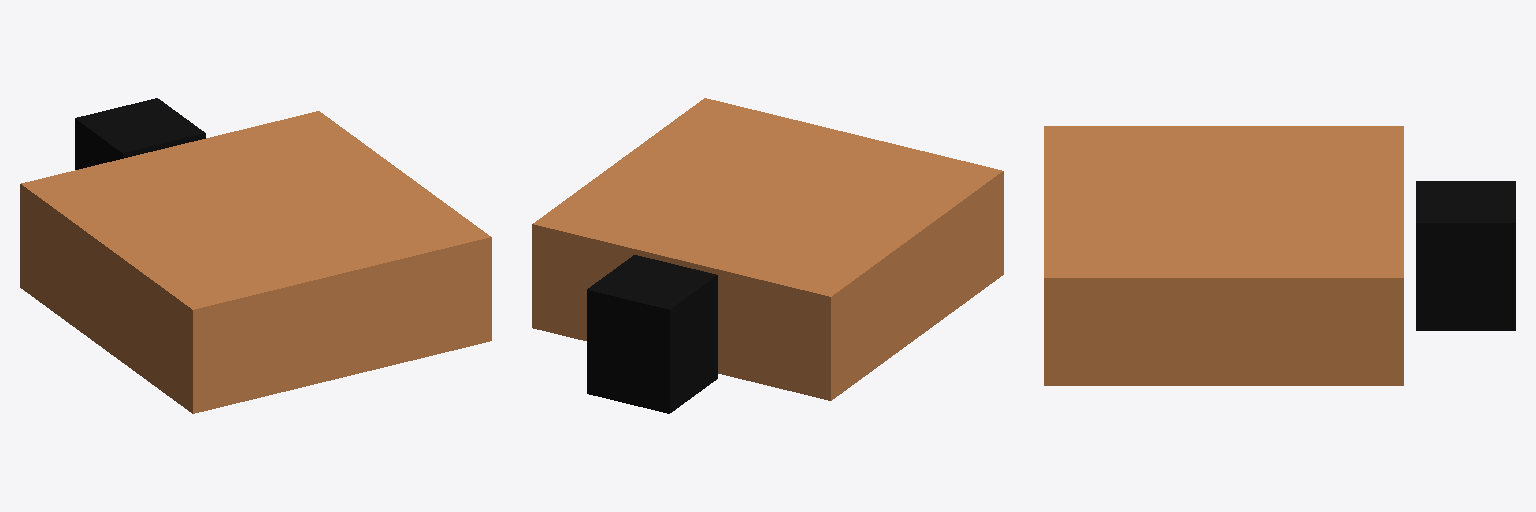
URDF robot description (box):
<?xml version="1.0"?>
<robot name="box">
  <link name="box">
    <visual>
      <material name="wood">
        <color rgba="0.82 0.56 0.35 1.0"/>
      </material>
      <origin xyz="0 -0.09 0"/>
      <geometry>
        <box size="0.9 0.9 0.3"/>
      </geometry>
    </visual>
    <collision>
      <origin xyz="0 -0.09 0"/>
      <geometry>
        <box size="0.9 0.9 0.3"/>
      </geometry>
    </collision>
    <visual>
      <material name="plate">
        <color rgba="0.1 0.1 0.1 1.0"/>
      </material>
      <origin xyz="0 0.515 0"/>
      <geometry>
        <box size="0.25 0.25 0.3"/>
      </geometry>
    </visual>
    <inertial>
      <mass value="500"/>
      <friction value="1.0"/>
      <inertia ixx="1000.0" ixy="0.0" ixz="0.0" iyy="1000.0" iyz="0.0" izz="1000.0"/>
    </inertial>
  </link>
</robot>

--- Facts derived from the render (not from the file) ---
The picture shows the robot from 3 angles, left to right: view 1: azimuth 30°, elevation 25°; view 2: azimuth 150°, elevation 25°; view 3: azimuth 270°, elevation 25°; orthographic projection.
Robot: box — 1 links, 0 joints (none); root link box; default pose: all joints at 0.
Visible links, largest first — view 1: box; view 2: box; view 3: box.
Boxes of the visible links, x1,y1,x2,y2 form: box: (20, 98, 491, 413); box: (532, 98, 1003, 413); box: (1044, 126, 1515, 385).
Size in the robot's own frame: 0.9 by 1.18 by 0.3 metres.
Geometry: primitives only (box / cylinder / sphere), no mesh files.
